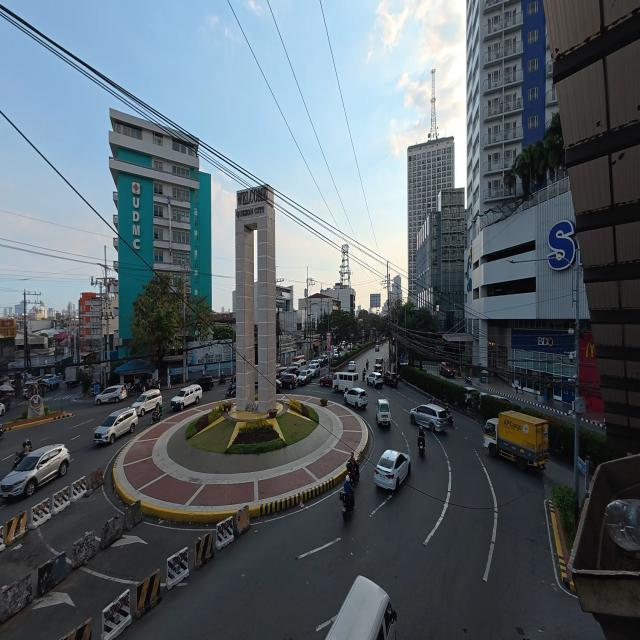car: (0, 445, 70, 497), (94, 408, 137, 444), (375, 450, 410, 490), (410, 404, 448, 431), (171, 384, 202, 410), (344, 387, 368, 408), (23, 378, 41, 398), (196, 374, 216, 391), (42, 374, 61, 391), (366, 372, 383, 388), (280, 373, 297, 389), (383, 371, 398, 386), (440, 362, 455, 377), (298, 369, 312, 385), (308, 361, 320, 377), (465, 387, 477, 403), (320, 373, 333, 386), (286, 365, 300, 376), (374, 358, 383, 373), (276, 367, 287, 378), (318, 355, 328, 367), (66, 380, 80, 388), (374, 364, 383, 374), (348, 361, 356, 372), (276, 379, 282, 392), (0, 403, 5, 415), (347, 343, 353, 351), (374, 344, 380, 352)
motorcycle: (340, 491, 354, 521), (346, 460, 359, 488), (150, 405, 163, 425), (12, 452, 24, 470), (142, 380, 160, 391), (225, 384, 236, 398), (446, 404, 453, 425), (0, 396, 11, 409), (418, 438, 424, 457), (218, 375, 226, 386), (465, 375, 472, 384), (0, 424, 4, 437)
trucks: (484, 412, 548, 470), (65, 367, 80, 388)
vans: (326, 576, 397, 639), (171, 384, 202, 410), (132, 390, 162, 416), (95, 386, 126, 405), (333, 373, 358, 391), (376, 399, 391, 426)
